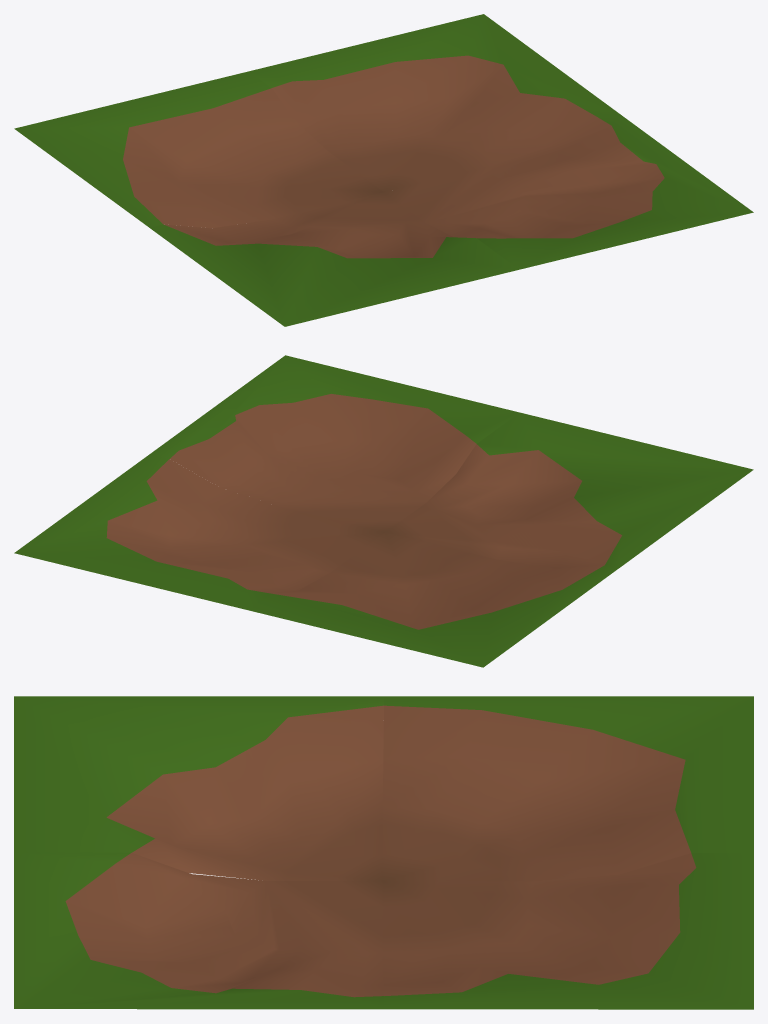
The model's file is GroundHole1_1 (1).fbx.
3 views of the same model, one above another, from view 1: azimuth 30°, elevation 25°; view 2: azimuth 150°, elevation 25°; view 3: azimuth 270°, elevation 25° (orthographic). The views are drawn at different scales.
Parts seen in each view (by area): view 1: GroundHole1_4, GroundHole1_3, GroundHole1_1 (1), GroundHole1_2; view 2: GroundHole1_1 (1), GroundHole1_2, GroundHole1_4, GroundHole1_3; view 3: GroundHole1_3, GroundHole1_2, GroundHole1_1 (1), GroundHole1_4.
Part boxes in pixels (x1,y1,x2,y2): GroundHole1_4: [249, 14, 618, 191]; GroundHole1_3: [14, 71, 383, 228]; GroundHole1_1 (1): [384, 113, 753, 269]; GroundHole1_2: [149, 192, 518, 326]; GroundHole1_1 (1): [150, 355, 519, 532]; GroundHole1_2: [386, 412, 753, 568]; GroundHole1_4: [14, 454, 384, 610]; GroundHole1_3: [249, 532, 617, 667]; GroundHole1_3: [382, 696, 753, 881]; GroundHole1_2: [14, 696, 383, 880]; GroundHole1_1 (1): [14, 852, 383, 1009]; GroundHole1_4: [382, 853, 753, 1009].
Size of the model in its own units: 801 by 43.7 by 800.
